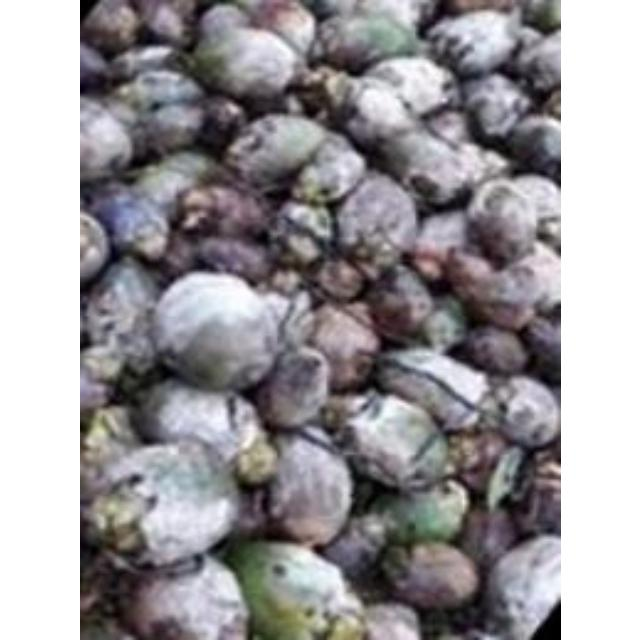damaged: (86, 439, 240, 566), (337, 392, 453, 492), (256, 428, 354, 544), (182, 18, 304, 108), (120, 558, 246, 640), (133, 380, 260, 460), (374, 348, 488, 434), (226, 112, 338, 194), (81, 260, 162, 366), (480, 536, 558, 638), (332, 174, 416, 262), (302, 301, 383, 391), (422, 9, 522, 81), (83, 183, 169, 263), (379, 540, 477, 610), (313, 10, 421, 72), (253, 349, 331, 433), (463, 177, 537, 265), (330, 76, 418, 148), (370, 482, 468, 546), (360, 56, 454, 120), (359, 264, 436, 342), (126, 150, 214, 218), (179, 180, 273, 243), (480, 376, 560, 450), (80, 480, 156, 556), (460, 74, 536, 146), (79, 405, 143, 487), (127, 100, 209, 163), (80, 98, 134, 184), (270, 198, 338, 266), (323, 511, 393, 577), (242, 0, 318, 58), (501, 243, 559, 317), (449, 430, 513, 494), (190, 235, 272, 282), (510, 458, 560, 534), (506, 28, 560, 98), (503, 112, 559, 178), (459, 509, 519, 569), (441, 248, 504, 302), (458, 324, 526, 374), (80, 0, 144, 52), (505, 173, 559, 233), (127, 0, 196, 46), (314, 256, 371, 304), (193, 98, 245, 150), (341, 0, 429, 30), (520, 314, 560, 378), (356, 602, 418, 640), (472, 296, 532, 334), (424, 108, 470, 148), (80, 38, 112, 90), (470, 148, 512, 186), (265, 264, 307, 296), (523, 0, 559, 32), (444, 0, 511, 16)
